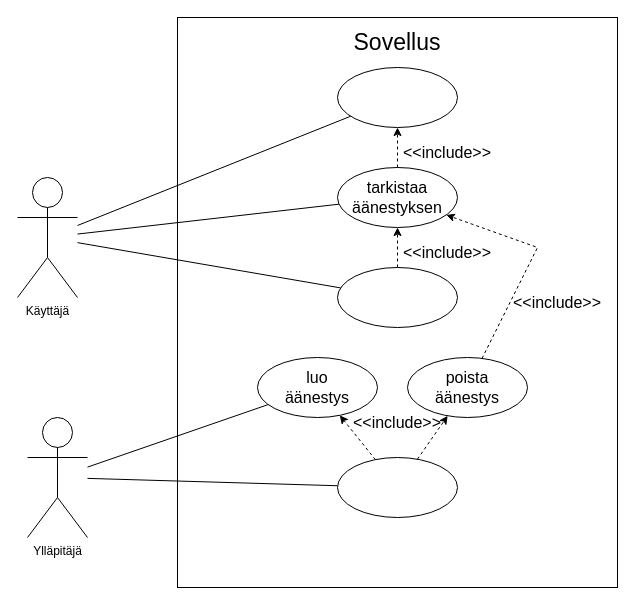
Image size: 635x605. Some labels were removed from this diagram. Here are the shapes that lost their labels. From the top down, the centre of each, then its label:
At point (397, 97): "selaa äänestyksiä".
At point (397, 297): "äänestää".
At point (397, 487): "admin panel".
